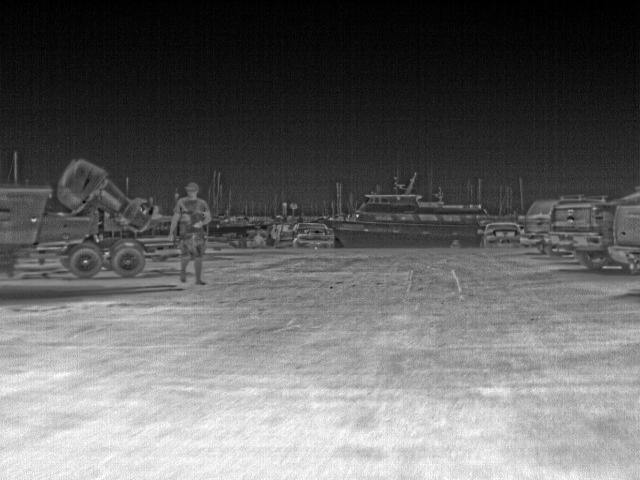car: (550, 202, 613, 272), (520, 195, 594, 254), (602, 204, 640, 275), (271, 220, 335, 250), (477, 220, 522, 248)
person: (167, 182, 212, 285)
